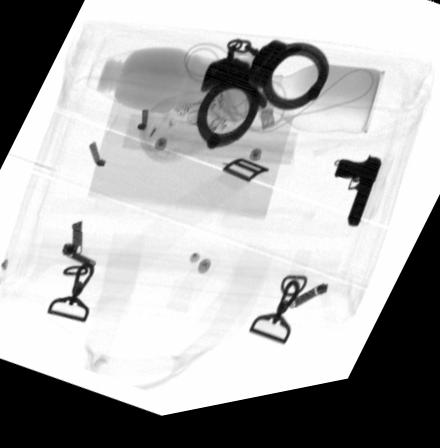Gun: (332, 166, 381, 239)
HandCuffs: (195, 47, 331, 157)
